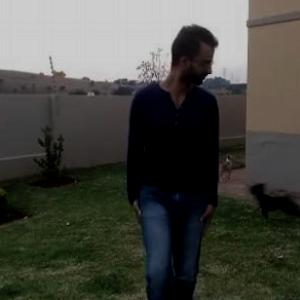follow: (130, 15, 224, 270)
